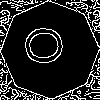O: (25, 25, 72, 66)
